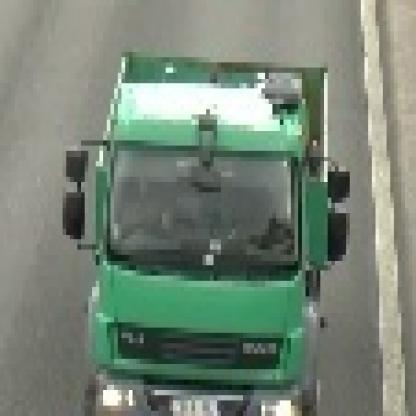truck: (60, 48, 351, 412)
